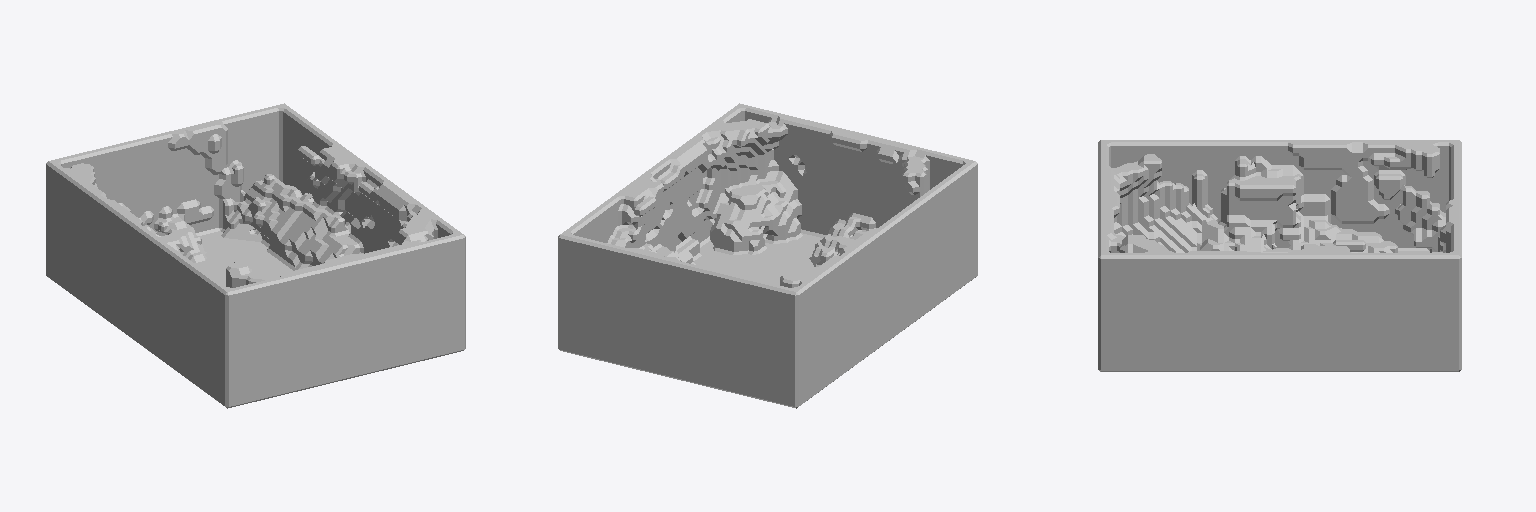
Rendered from Input_prediction_mesh.obj.
3 renders of one model, left to right at view 1: azimuth 30°, elevation 25°; view 2: azimuth 150°, elevation 25°; view 3: azimuth 270°, elevation 25°, orthographic.
Visible parts, largest first — view 1: mat0, mat4, mat5; view 2: mat0, mat4, mat6; view 3: mat0, mat1, mat3, mat2, mat6, mat4.
Part boxes in pixels (bbox=[...]): mat0: bbox=[46, 103, 465, 408]; mat4: bbox=[221, 174, 363, 270]; mat5: bbox=[144, 214, 204, 262]; mat0: bbox=[558, 103, 977, 408]; mat4: bbox=[641, 214, 875, 266]; mat6: bbox=[676, 200, 705, 263]; mat0: bbox=[1098, 140, 1461, 371]; mat1: bbox=[1267, 195, 1397, 252]; mat3: bbox=[1202, 181, 1276, 249]; mat2: bbox=[1333, 185, 1445, 251]; mat6: bbox=[1187, 313, 1260, 360]; mat4: bbox=[1277, 322, 1303, 359].
Size of the model in its own units: 4.16 by 1.92 by 5.44.